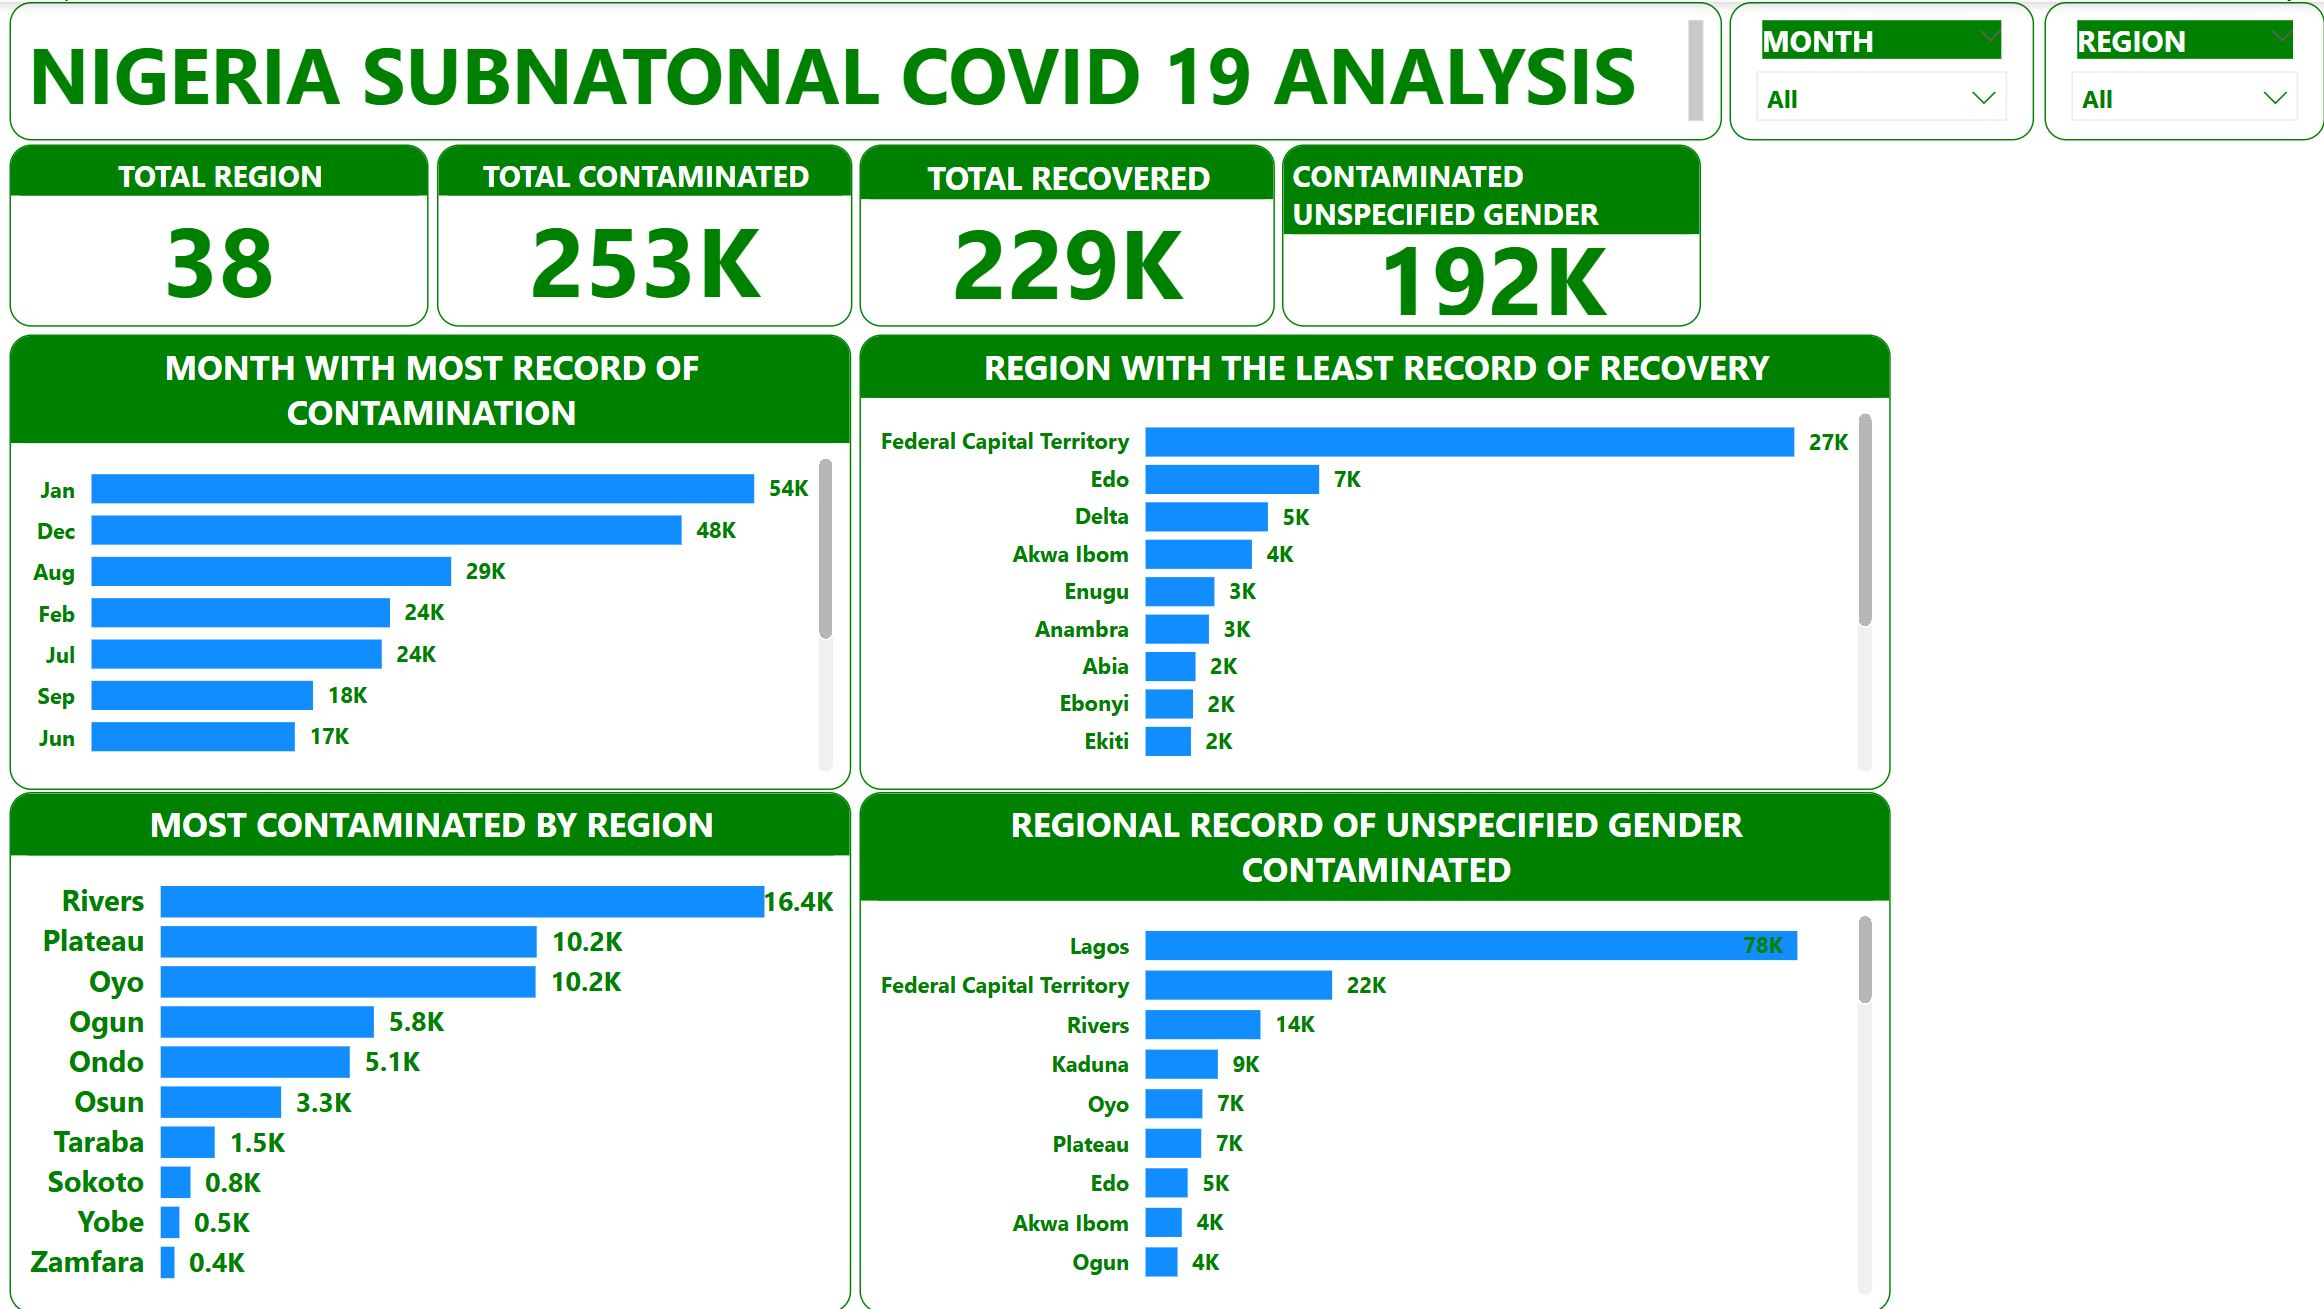

The dashboard page shown, as its layout file describes it:
{"tool":"powerbi","page":{"name":"Page 1","canvas":[1280,720],"ordinal":0},"visuals":[{"type":"textbox","box":[9.6,0,940,76],"z":0},{"type":"card","title":"TOTAL REGION","fields":{"Values":["DAX.total country"]},"box":[10,78,230,100],"z":1000},{"type":"barChart","title":"MOST CONTAMINATED BY REGION","fields":{"Y":["Sum(nga_subnational_covid19_hera.CONTAMINATES)"],"Category":["nga_subnational_covid19_hera.REGION"]},"box":[10,434,462,286],"z":2000},{"type":"card","title":"TOTAL CONTAMINATED","fields":{"Values":["Sum(nga_subnational_covid19_hera.CONTAMINATES)"]},"box":[244,78,228,100],"z":3000},{"type":"card","title":"CONTAMINATED UNSPECIFIED GENDER","fields":{"Values":["Sum(nga_subnational_covid19_hera.CONTAMINATED (GENDER UNSPECIFIED))"]},"box":[708,78,230,100],"z":4000},{"type":"barChart","title":" REGION WITH THE LEAST RECORD OF RECOVERY","fields":{"Y":["Sum(nga_subnational_covid19_hera.RECOVERED)"],"Category":["nga_subnational_covid19_hera.REGION"]},"box":[476,182,566,250],"z":5000},{"type":"card","title":"TOTAL RECOVERED","fields":{"Values":["Sum(nga_subnational_covid19_hera.RECOVERED)"]},"box":[476,78,228,100],"z":6000},{"type":"barChart","title":"REGIONAL RECORD OF UNSPECIFIED GENDER CONTAMINATED ","fields":{"Y":["Sum(nga_subnational_covid19_hera.CONTAMINATED (GENDER UNSPECIFIED))"],"Category":["nga_subnational_covid19_hera.REGION"]},"box":[476,434,566,286],"z":7000},{"type":"barChart","title":"MONTH WITH MOST RECORD OF CONTAMINATION","fields":{"Category":["nga_subnational_covid19_hera.MONTH"],"Y":["Sum(nga_subnational_covid19_hera.CONTAMINATES)"]},"box":[10,182,462,250],"z":8000},{"type":"slicer","fields":{"Values":["nga_subnational_covid19_hera.REGION"]},"box":[1126,0,154,76],"z":9000},{"type":"slicer","fields":{"Values":["nga_subnational_covid19_hera.MONTH"]},"box":[954,0,167,76],"z":10000}]}

Visuals, with their boxes in screenshot pixels (x1, y1, x2, y2), scaled from the page's 1280x720 canvas onto the 2324x1309 screenshot:
textbox: Rect(17, 0, 1724, 138)
"TOTAL REGION" card: Rect(18, 142, 436, 324)
"MOST CONTAMINATED BY REGION" barChart: Rect(18, 789, 857, 1308)
"TOTAL CONTAMINATED" card: Rect(443, 142, 857, 324)
"CONTAMINATED UNSPECIFIED GENDER" card: Rect(1285, 142, 1703, 324)
" REGION WITH THE LEAST RECORD OF RECOVERY" barChart: Rect(864, 331, 1892, 785)
"TOTAL RECOVERED" card: Rect(864, 142, 1278, 324)
"REGIONAL RECORD OF UNSPECIFIED GENDER CONTAMINATED " barChart: Rect(864, 789, 1892, 1308)
"MONTH WITH MOST RECORD OF CONTAMINATION" barChart: Rect(18, 331, 857, 785)
slicer - nga_subnational_covid19_hera.REGION: Rect(2044, 0, 2323, 138)
slicer - nga_subnational_covid19_hera.MONTH: Rect(1732, 0, 2035, 138)
